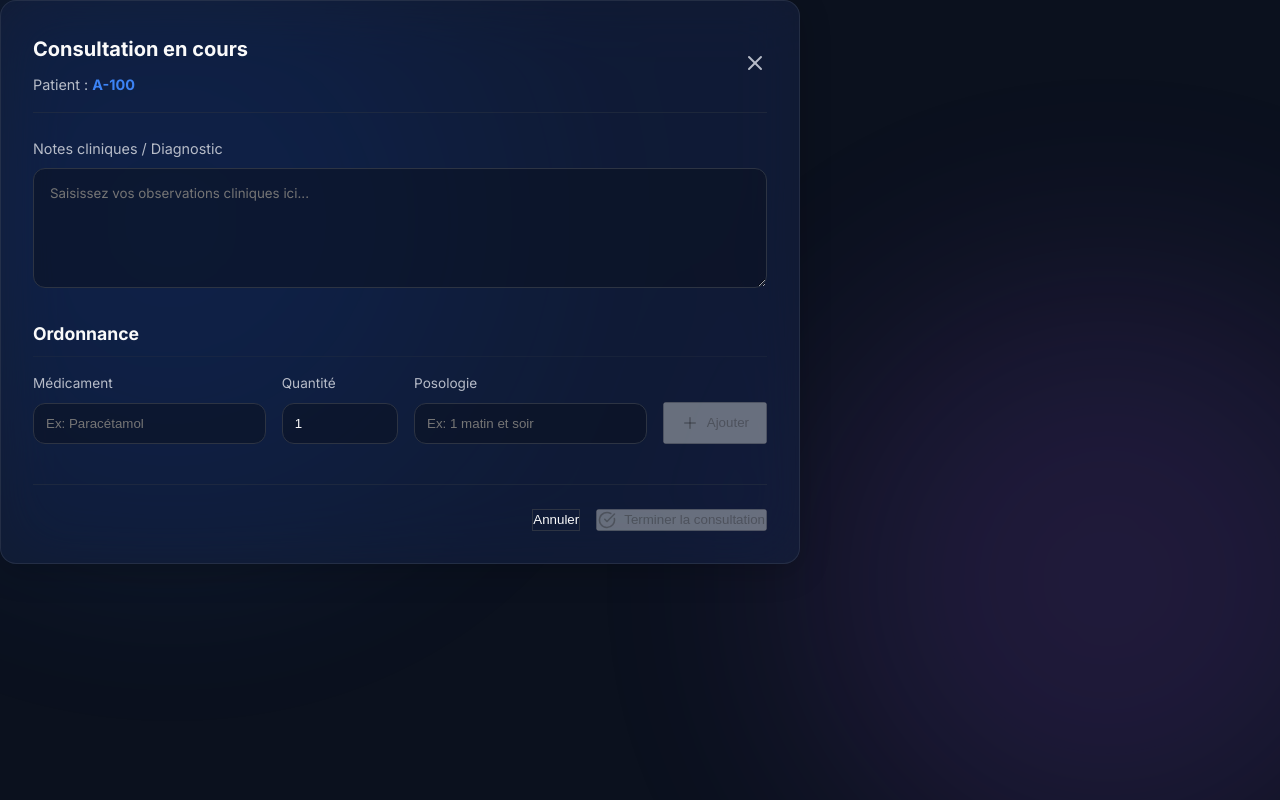
Test: ConsultationModal › permet d'ajouter un médicament
In the field with placeholder "Ex: Paracétamol": x=149, y=423 [33, 403, 266, 444], type "Ibuprofène 400mg"
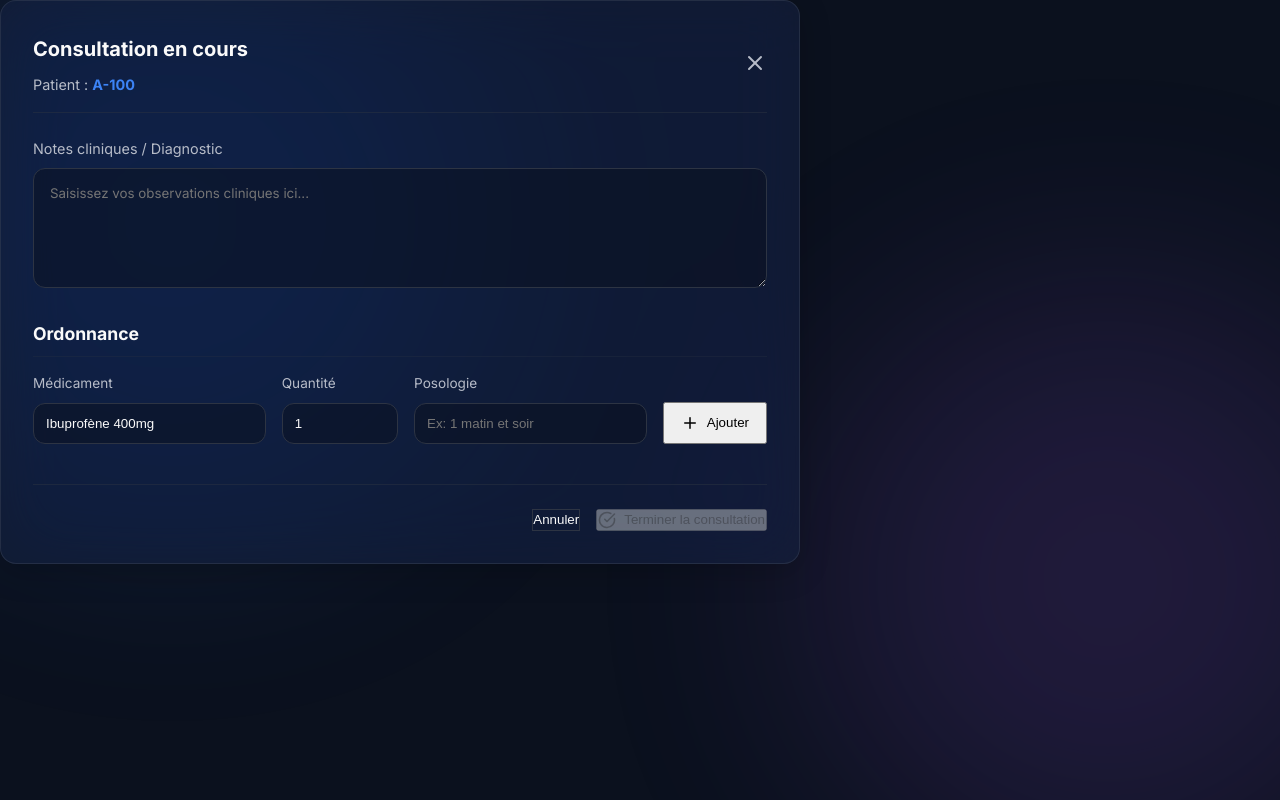
In the field with placeholder "Ex: 1 matin et soir": x=530, y=423 [414, 403, 647, 444], type "1 comprimé 2x/jour"
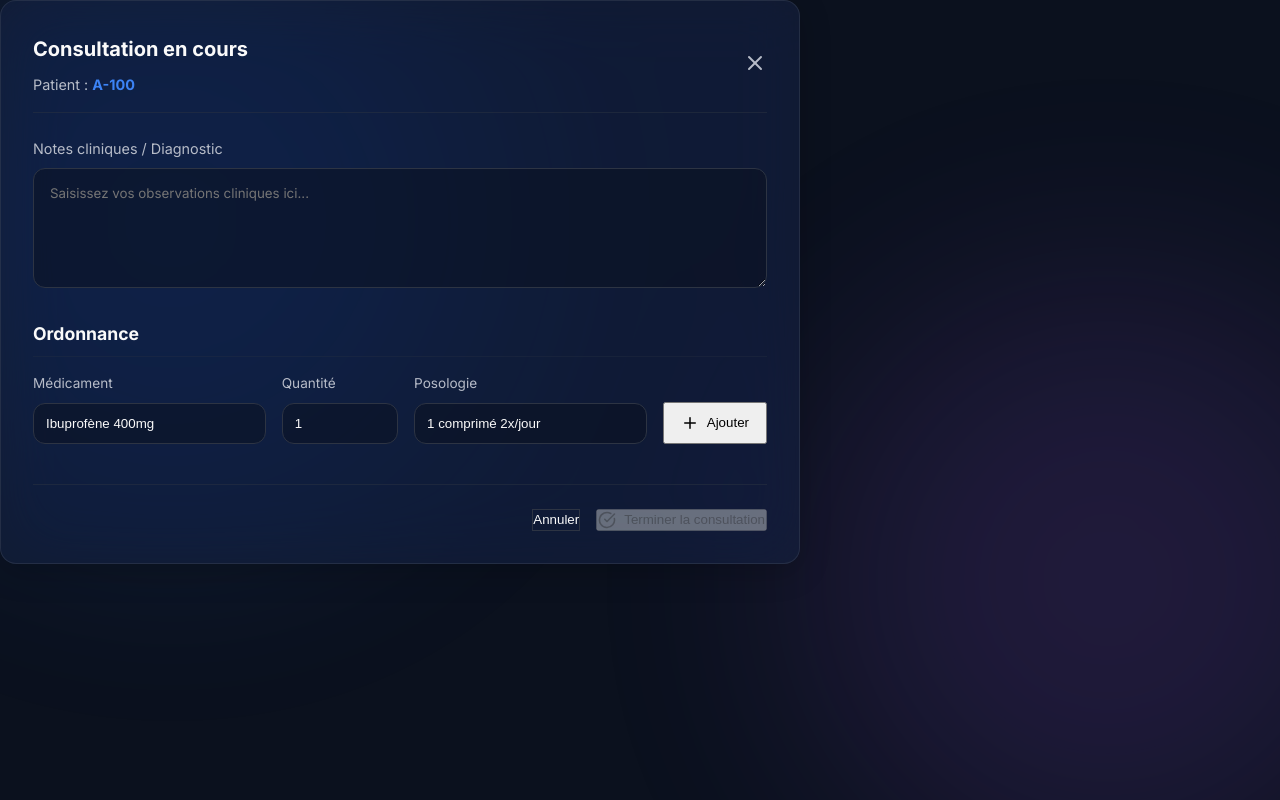
Click the button "Ajouter": x=715, y=423 [663, 402, 767, 444]
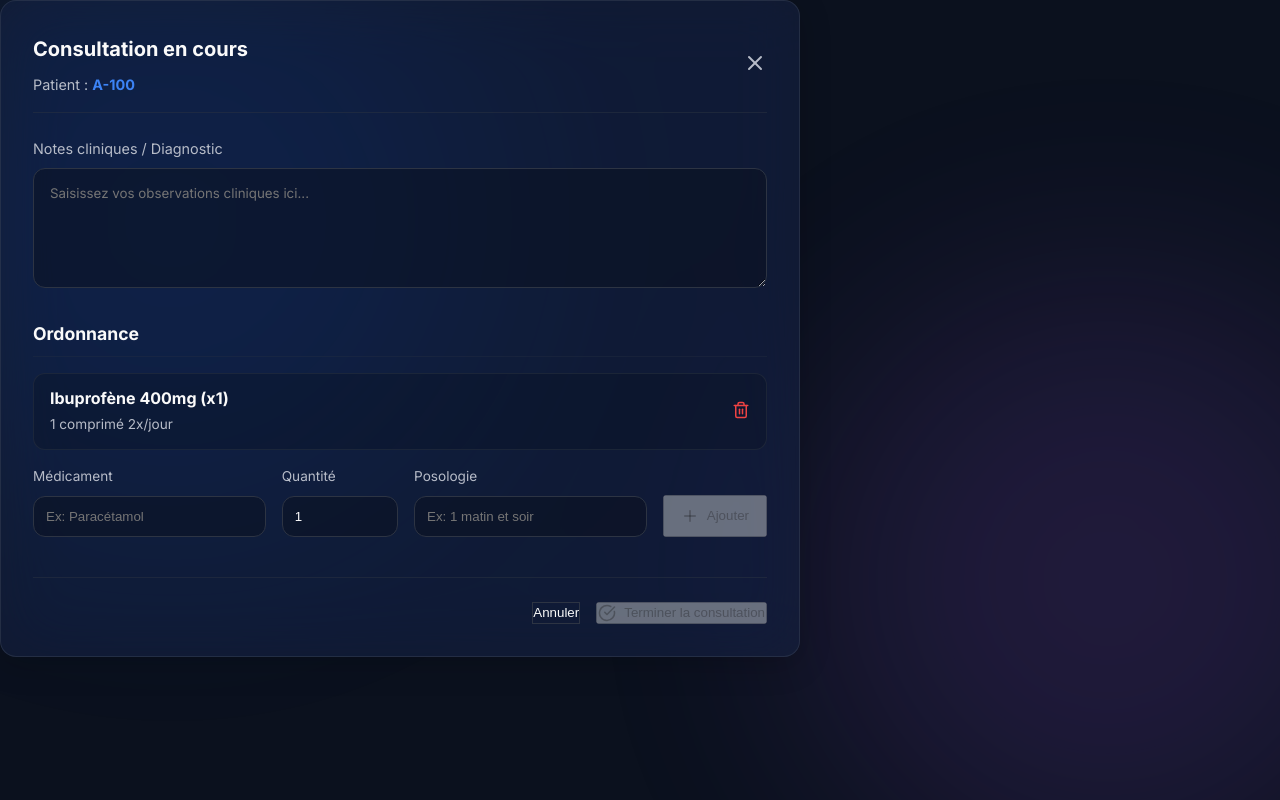
Result: the text "Ibuprofène 400mg (x1)" is shown at [50, 386, 229, 411]
